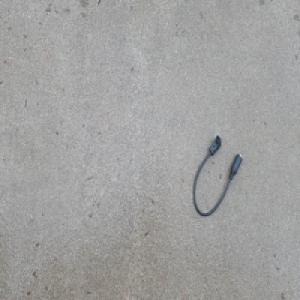Wire: (192, 135, 243, 218)
